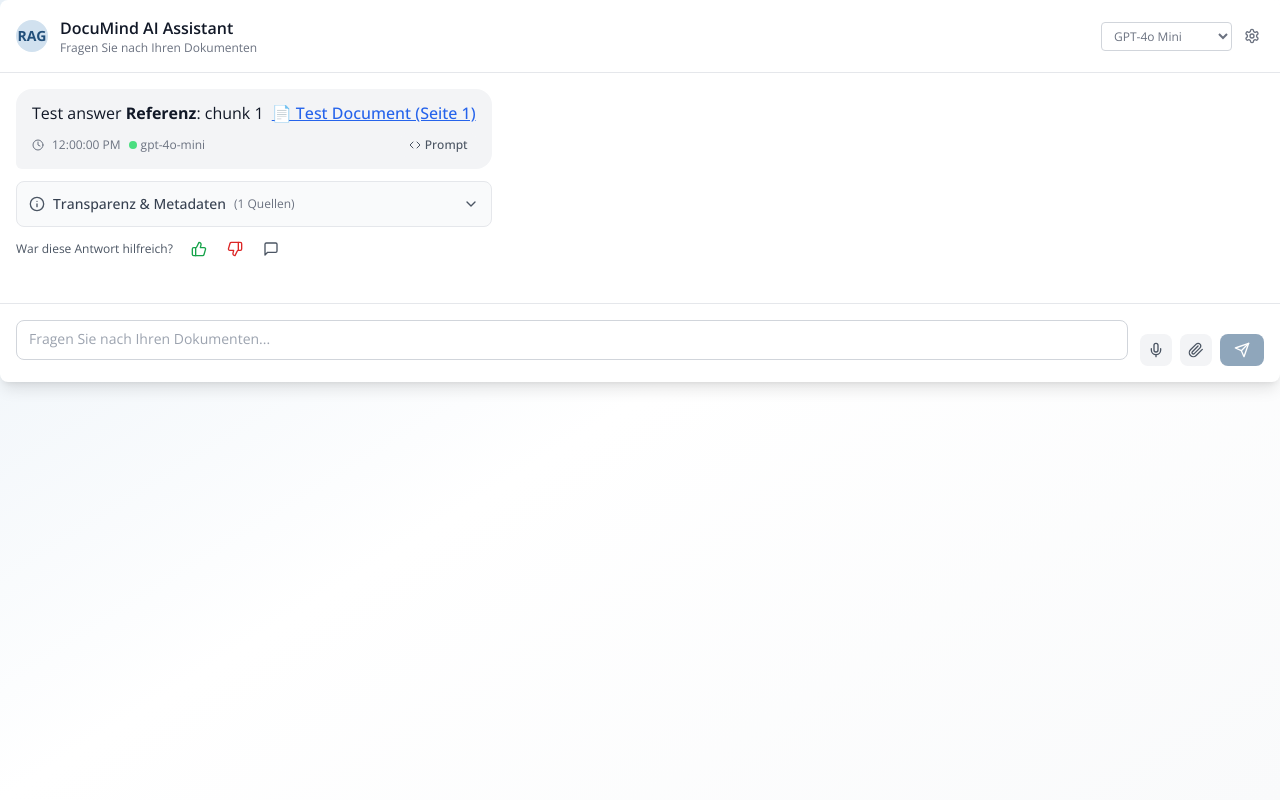
Test: RAGChat - Erweiterte Metadaten-Anzeige › should display vector_score and text_score breakdown in transparency layer
Check: the text "Test answer Referenz: chunk 1 📄 Test Document (Seite 1)" is shown, box [32, 101, 476, 125]
# Klicke auf den Button
Step 1. Click the button "Transparenz & Metadaten (1 Quellen)" → (254, 204), box [17, 182, 491, 226]
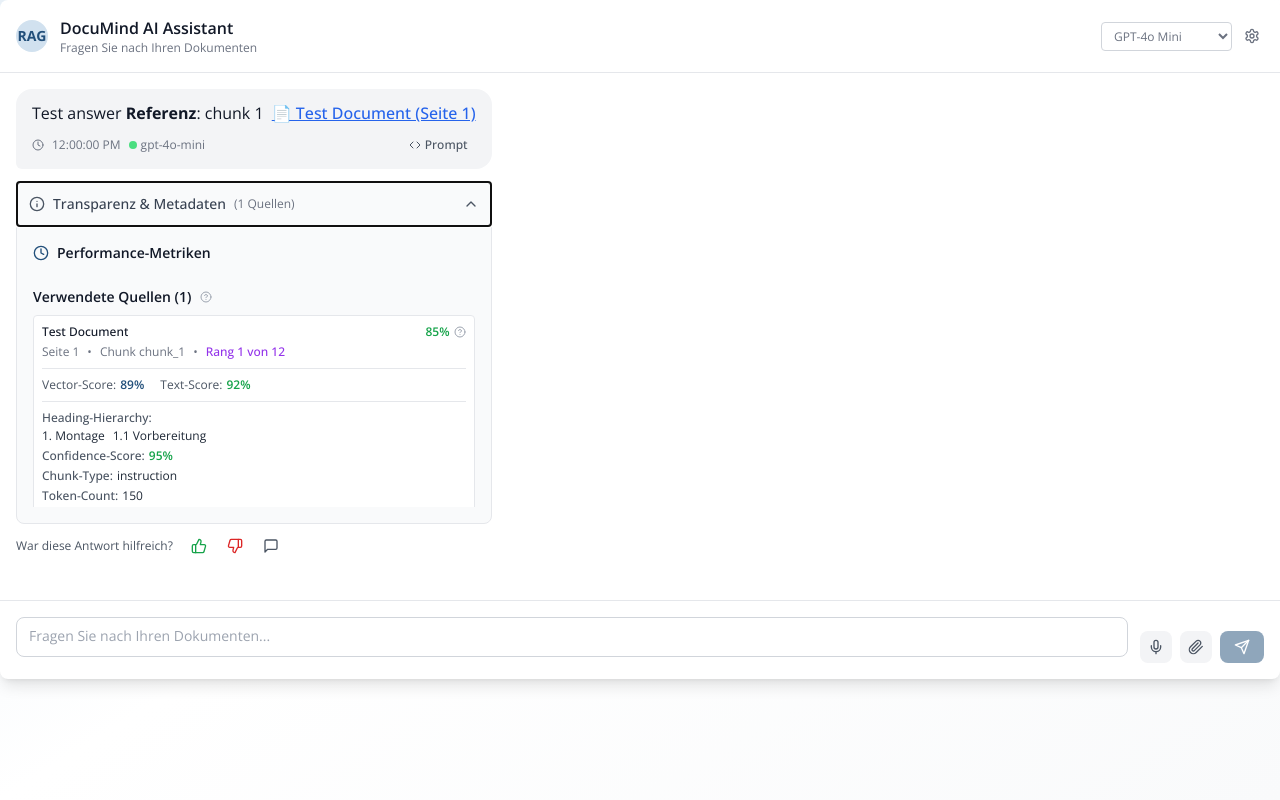
Check: the heading "Verwendete Quellen (1)" is shown, box [33, 287, 212, 306]
